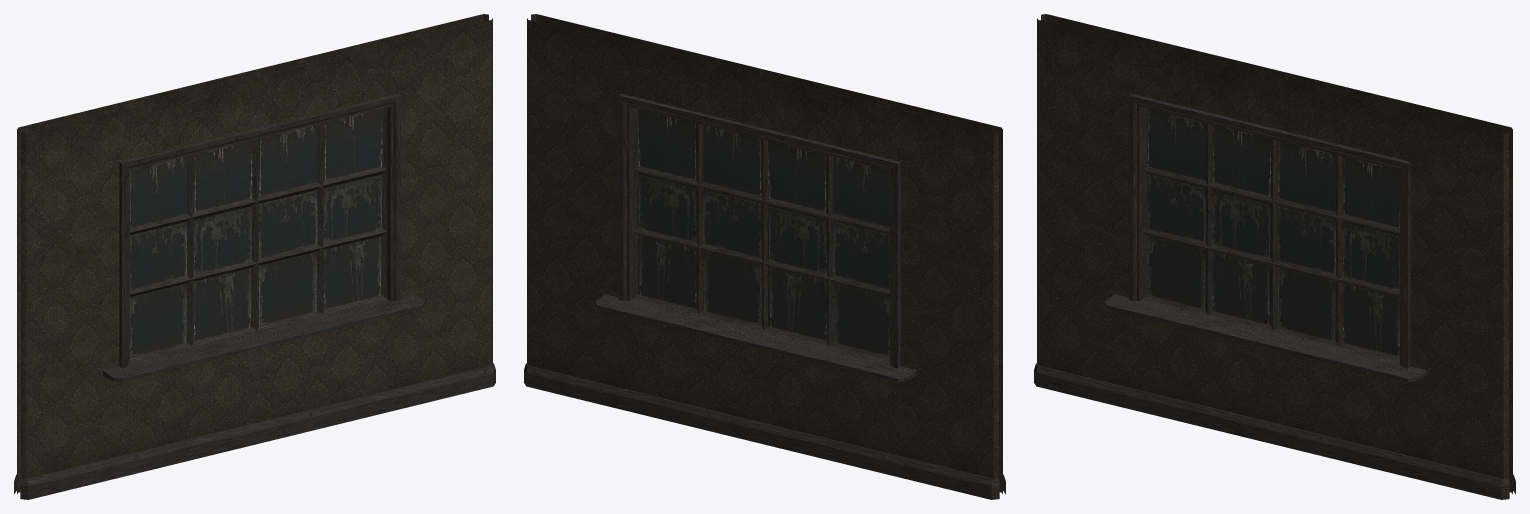
Rendered from window_2_2_double.obj.
The picture shows the model from 3 angles, left to right: view 1: azimuth 30°, elevation 25°; view 2: azimuth 150°, elevation 25°; view 3: azimuth 330°, elevation 25°; orthographic projection.
Parts seen in each view (by area): view 1: window_2_2_double; view 2: window_2_2_double; view 3: window_2_2_double.
Part boxes in pixels (x1,y1,x2,y2): window_2_2_double: (14,14,495,499); window_2_2_double: (524,14,1005,499); window_2_2_double: (1034,14,1515,499).
Size of the model in its own units: 4.09 by 3 by 0.52.
